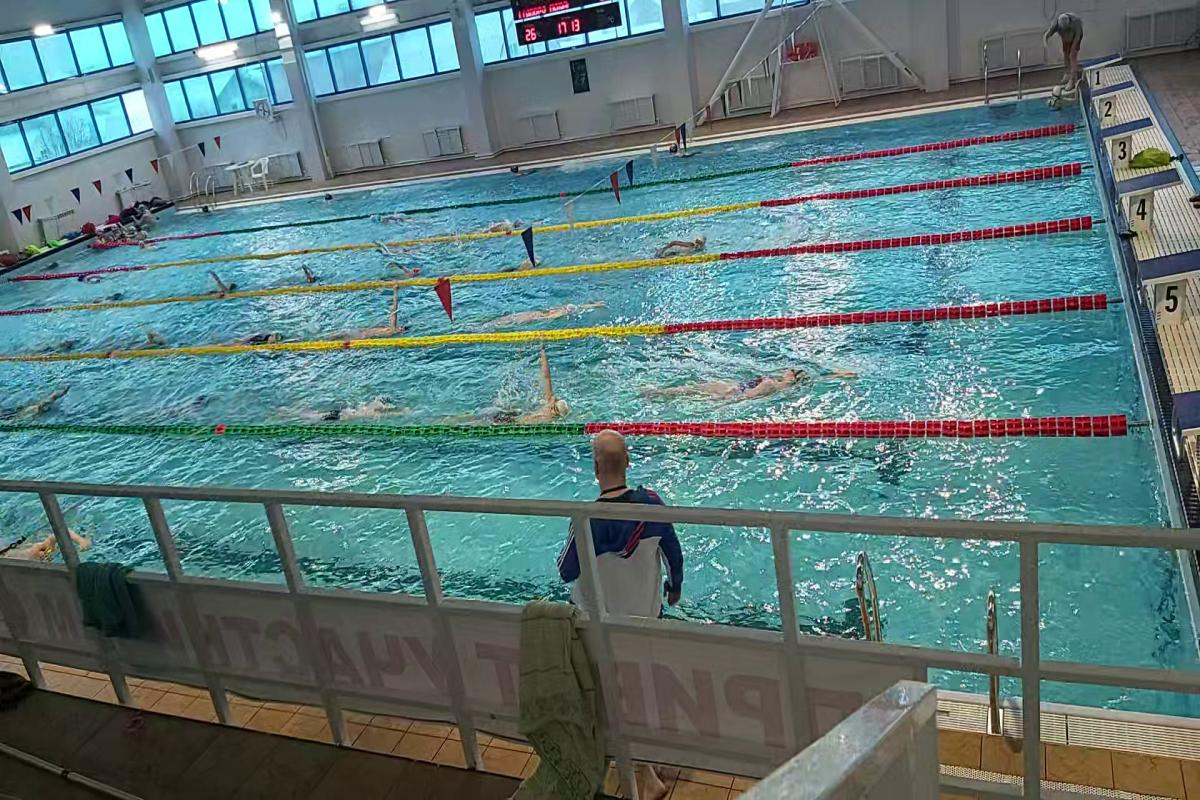swimmer: (626, 358, 876, 400), (444, 357, 566, 429), (475, 294, 606, 327), (11, 386, 103, 431), (289, 397, 402, 427), (353, 303, 416, 341), (221, 323, 310, 347), (631, 232, 723, 254), (4, 529, 57, 561), (136, 322, 182, 347), (511, 252, 556, 272)
